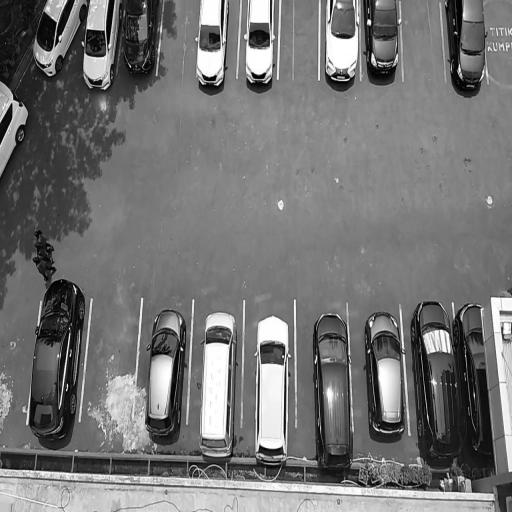Car: (22, 273, 86, 451), (410, 294, 465, 474), (310, 303, 358, 479), (456, 288, 494, 480), (362, 304, 412, 446), (252, 310, 293, 468), (198, 307, 238, 467), (144, 304, 188, 446), (444, 0, 490, 101), (30, 0, 84, 82), (194, 0, 234, 100), (0, 71, 31, 195), (82, 0, 120, 101), (242, 0, 280, 101), (324, 0, 362, 97), (119, 0, 160, 87), (366, 0, 402, 88)
Space Available: (91, 294, 133, 434), (282, 0, 318, 91), (404, 0, 438, 80), (160, 1, 193, 81), (484, 0, 512, 84)
